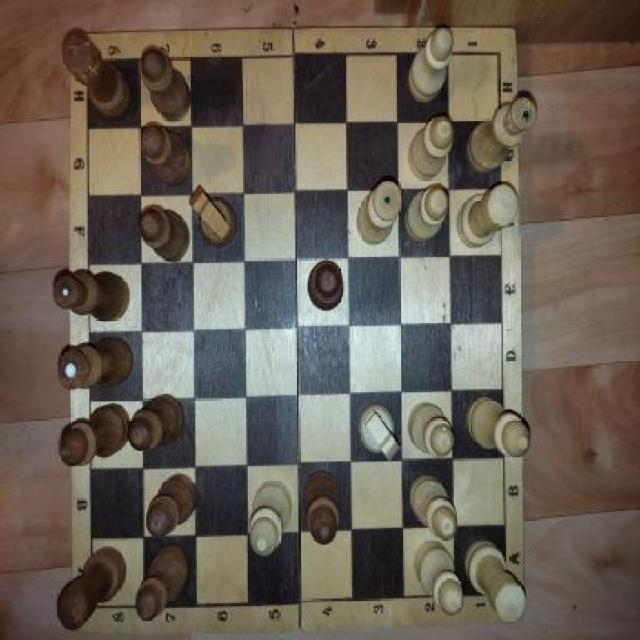chess-table-corners: (69, 33, 114, 96), (480, 559, 526, 618), (75, 574, 119, 634), (473, 27, 516, 85)
